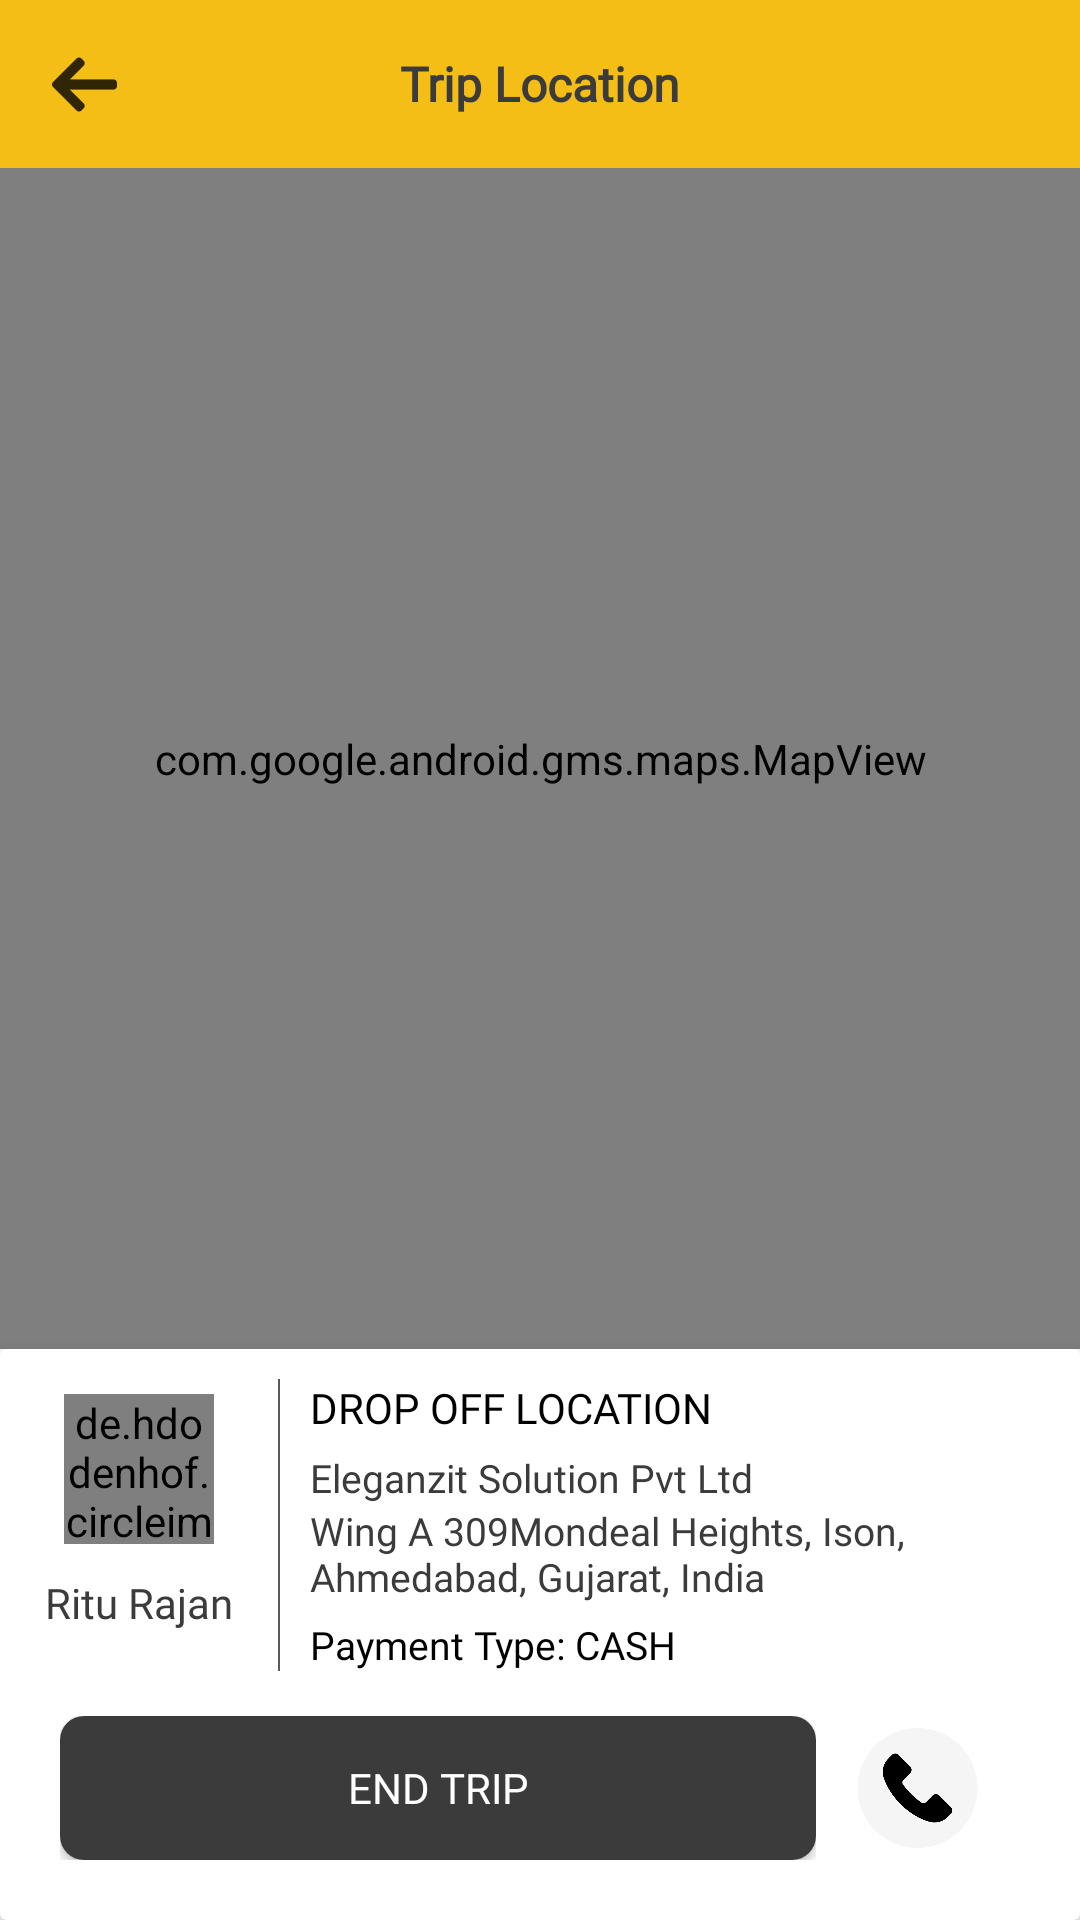

Locate icon controls on the screen. Image size 1080px×1920px, boxes as bbox=[x1, y1, x2, y2].
back: bbox=[52, 57, 117, 112]
phonecall: bbox=[858, 1728, 978, 1848]
